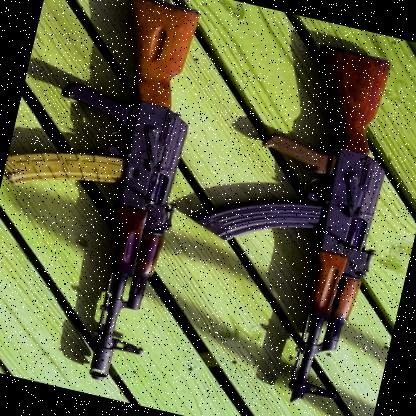rifle: (159, 21, 416, 416), (0, 0, 237, 392)
